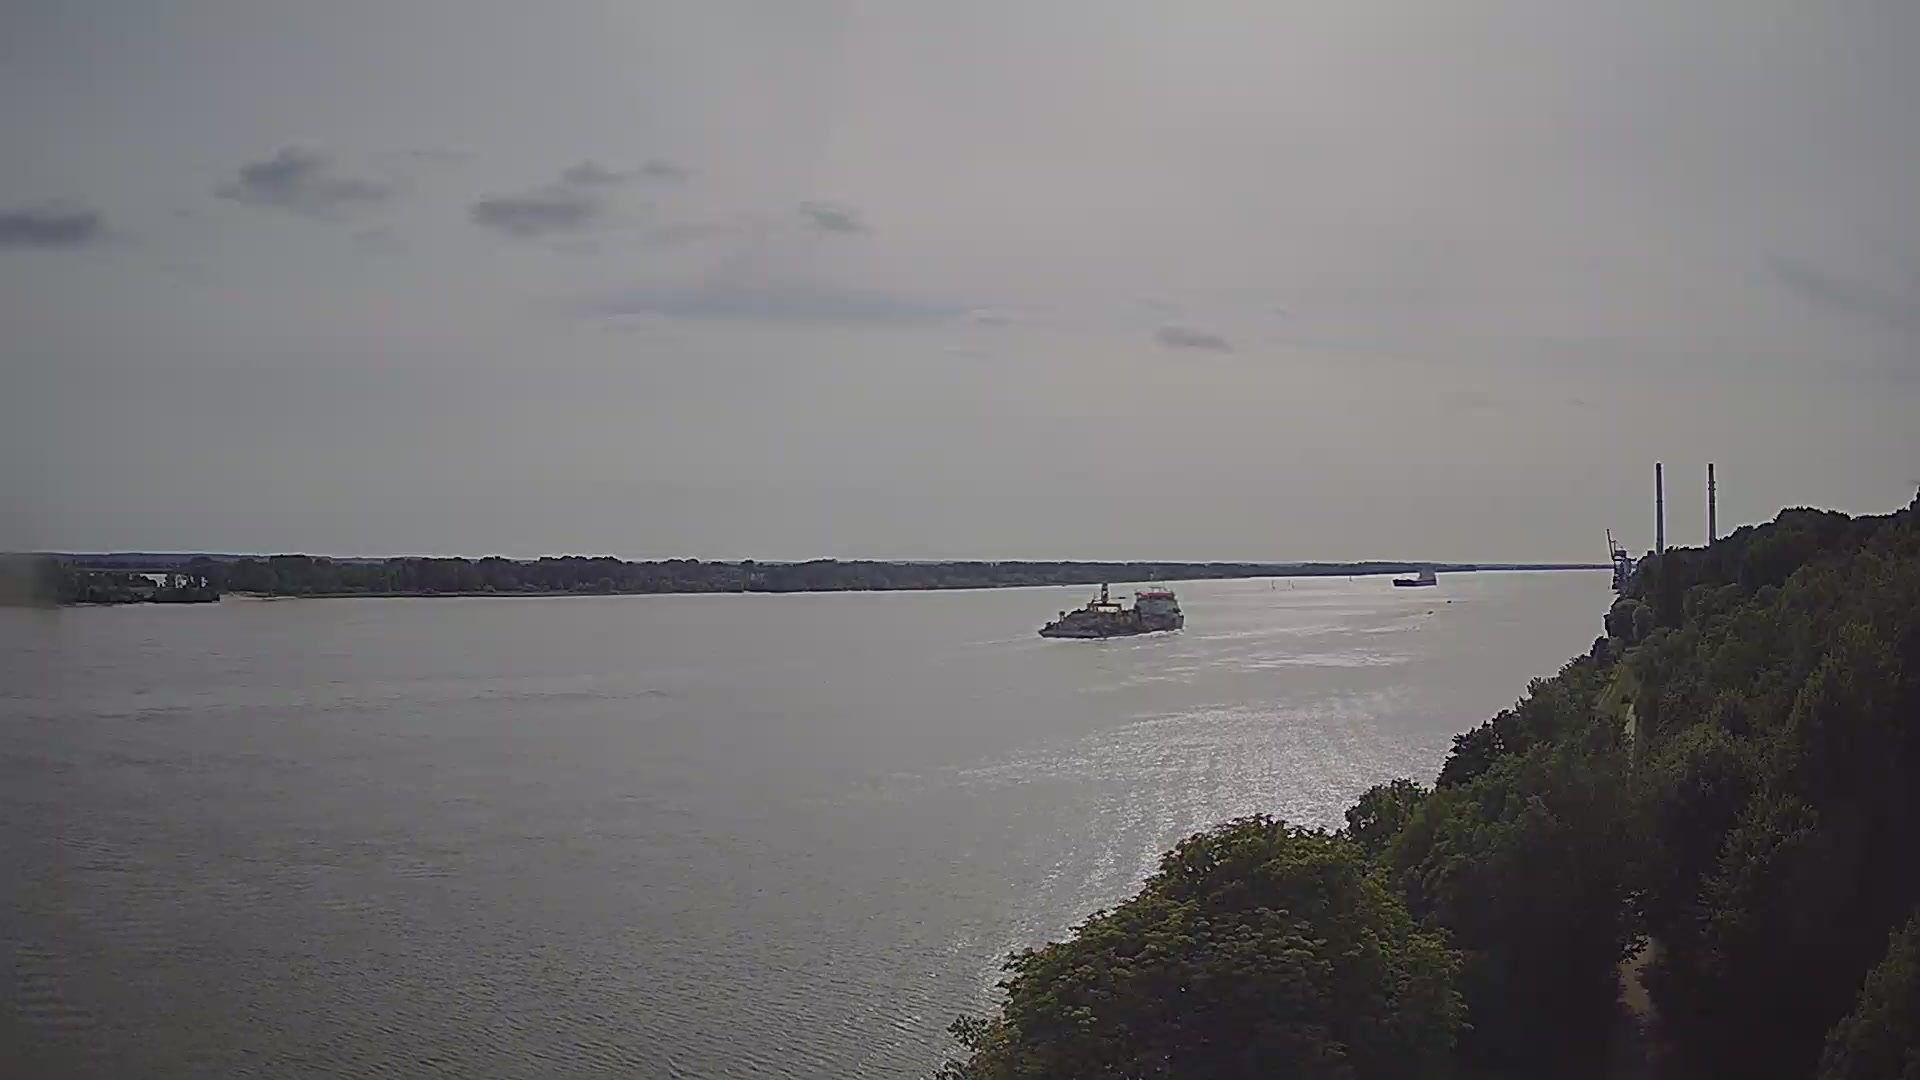sea: (1038, 580, 1185, 640), (1393, 564, 1437, 587), (1348, 574, 1353, 583), (1273, 579, 1276, 591), (1425, 609, 1433, 615), (1447, 597, 1452, 603)
